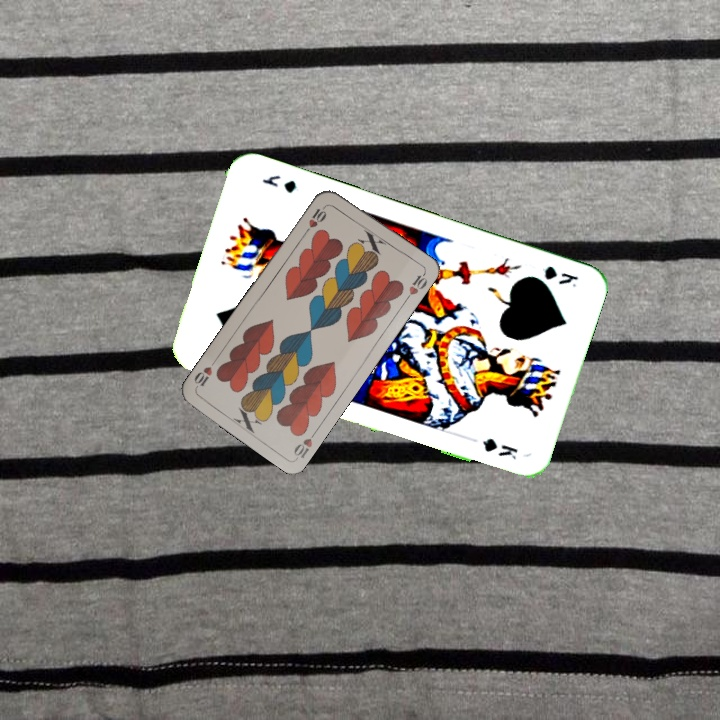GK: (540, 262, 581, 290)
H10: (289, 425, 320, 461), (300, 201, 329, 237)
